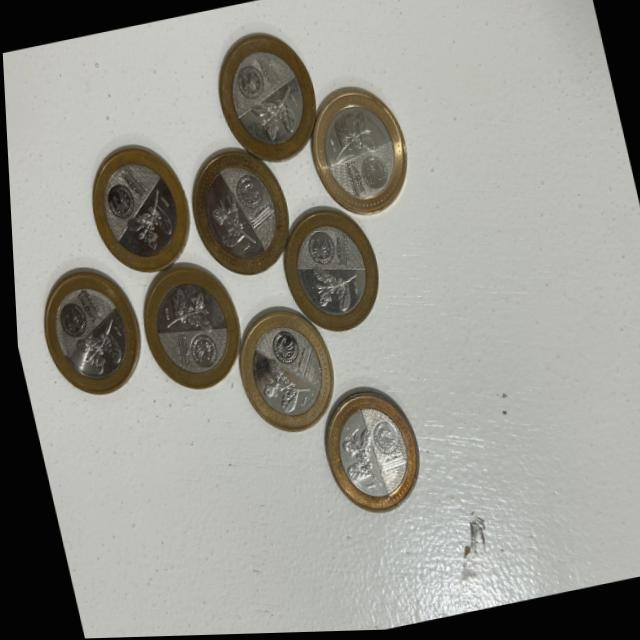20_New_Back: (330, 420, 381, 501), (252, 354, 309, 418), (324, 108, 379, 167), (300, 259, 358, 314), (123, 189, 176, 249), (249, 84, 302, 138), (74, 318, 121, 373), (209, 192, 252, 250), (160, 287, 209, 337)
